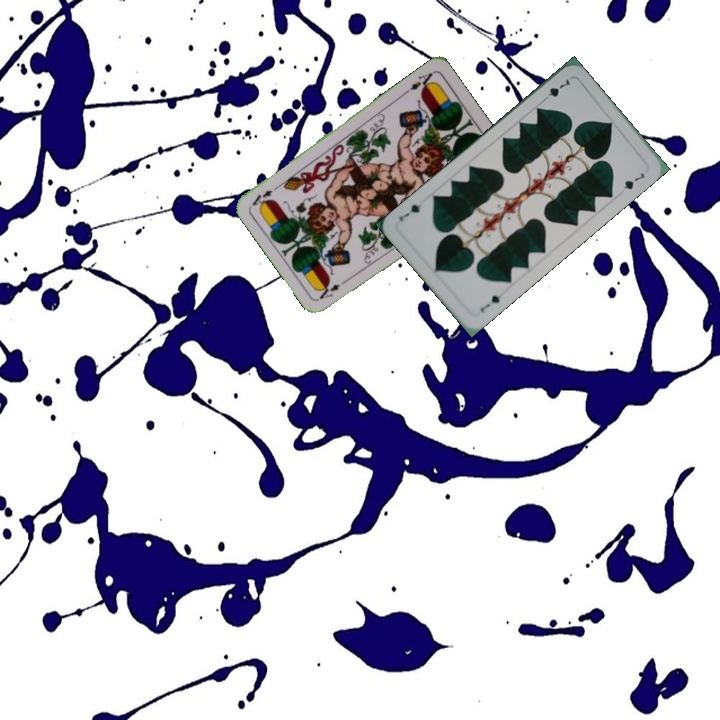EA: (400, 68, 437, 96), (315, 274, 351, 302)
G7: (538, 74, 573, 104), (476, 291, 503, 315)
